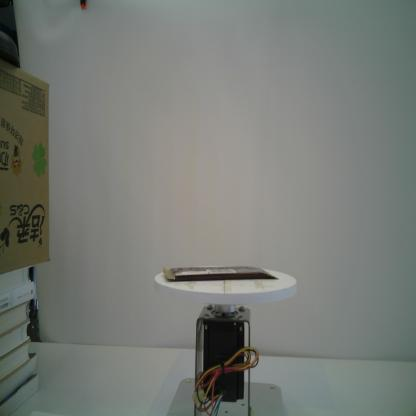Chocolate: (159, 262, 280, 285)
